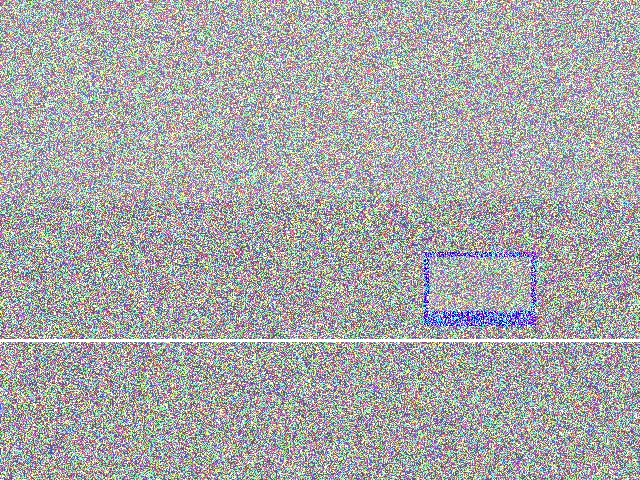car: (313, 210, 398, 318)
